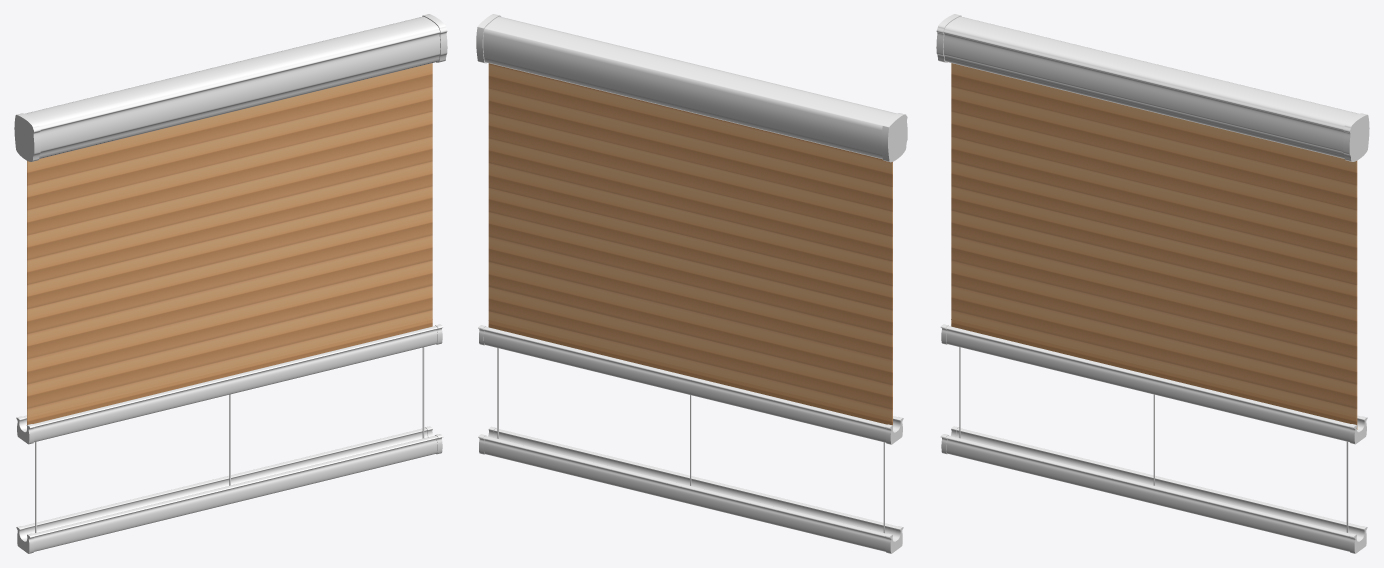
The model's file is PLE 12.glb.
3 renders of one model, left to right at view 1: azimuth 30°, elevation 25°; view 2: azimuth 150°, elevation 25°; view 3: azimuth 330°, elevation 25°, orthographic.
Visible parts, largest first — view 1: Plane, BezierCurve.053, BezierCurve.029, BezierCurve.048, BezierCurve.056; view 2: Plane, BezierCurve.053, BezierCurve.029, BezierCurve.048, BezierCurve.056; view 3: Plane, BezierCurve.053, BezierCurve.029, BezierCurve.048, BezierCurve.055.
Boxes of the visible parts, x1=… form: Plane: x1=27, y1=63, x2=432, y2=424; BezierCurve.053: x1=25, y1=16, x2=440, y2=158; BezierCurve.029: x1=22, y1=428, x2=437, y2=551; BezierCurve.048: x1=22, y1=326, x2=437, y2=442; BezierCurve.056: x1=14, y1=113, x2=40, y2=161; Plane: x1=488, y1=63, x2=892, y2=425; BezierCurve.053: x1=483, y1=16, x2=896, y2=159; BezierCurve.029: x1=483, y1=428, x2=896, y2=551; BezierCurve.048: x1=483, y1=327, x2=897, y2=442; BezierCurve.056: x1=881, y1=113, x2=907, y2=162; Plane: x1=951, y1=63, x2=1357, y2=429; BezierCurve.053: x1=943, y1=16, x2=1358, y2=158; BezierCurve.029: x1=946, y1=428, x2=1361, y2=551; BezierCurve.048: x1=945, y1=326, x2=1361, y2=442; BezierCurve.055: x1=1343, y1=113, x2=1369, y2=161.
Bounding box in the file's own units: 1.2 × 1.2 × 0.0999.
2 materials, 1 textured.
